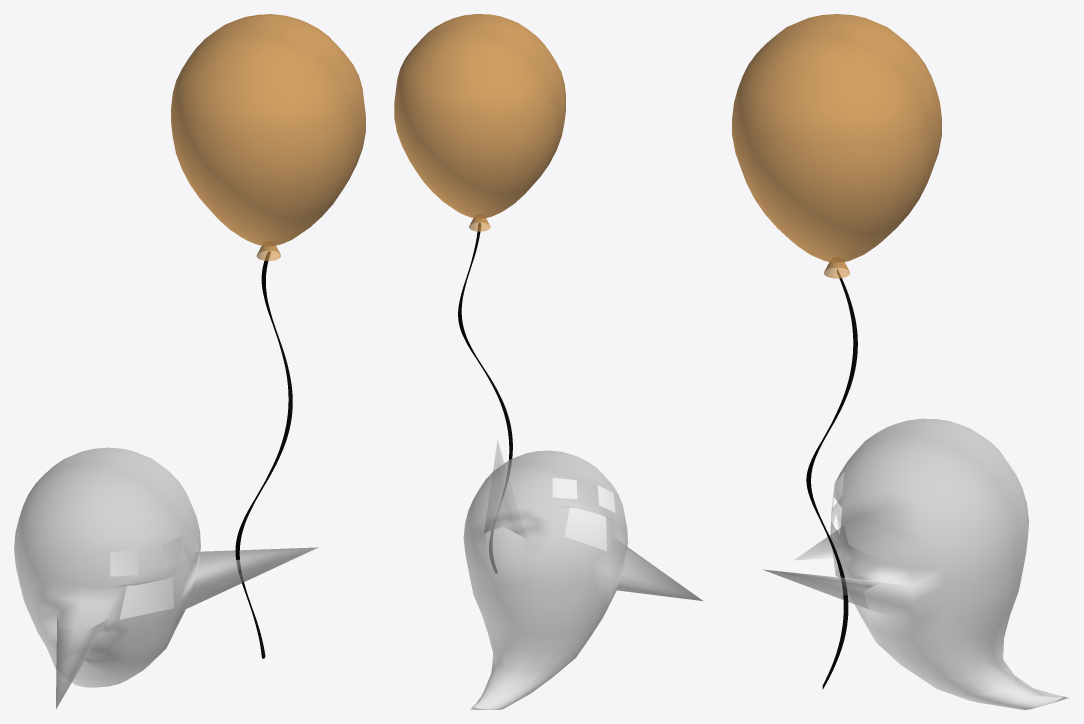
File: little_ghost.fbx
3 views of the same model, side by side, from view 1: azimuth 30°, elevation 25°; view 2: azimuth 150°, elevation 25°; view 3: azimuth 270°, elevation 25° (orthographic). The views are drawn at different scales.
Parts seen in each view (by area): view 1: pasted__pSphere3, pasted__pHelix2; view 2: pasted__pSphere3, pasted__pHelix2; view 3: pasted__pSphere3, pasted__pHelix2.
Part boxes in pixels (x1,y1,x2,y2): pasted__pSphere3: (14, 447, 318, 709); pasted__pHelix2: (171, 14, 365, 658); pasted__pSphere3: (463, 440, 702, 709); pasted__pHelix2: (394, 14, 565, 573); pasted__pSphere3: (763, 418, 1069, 709); pasted__pHelix2: (732, 14, 941, 689).
Bounding box in the file's own units: 58.93 × 121 × 50.62.
